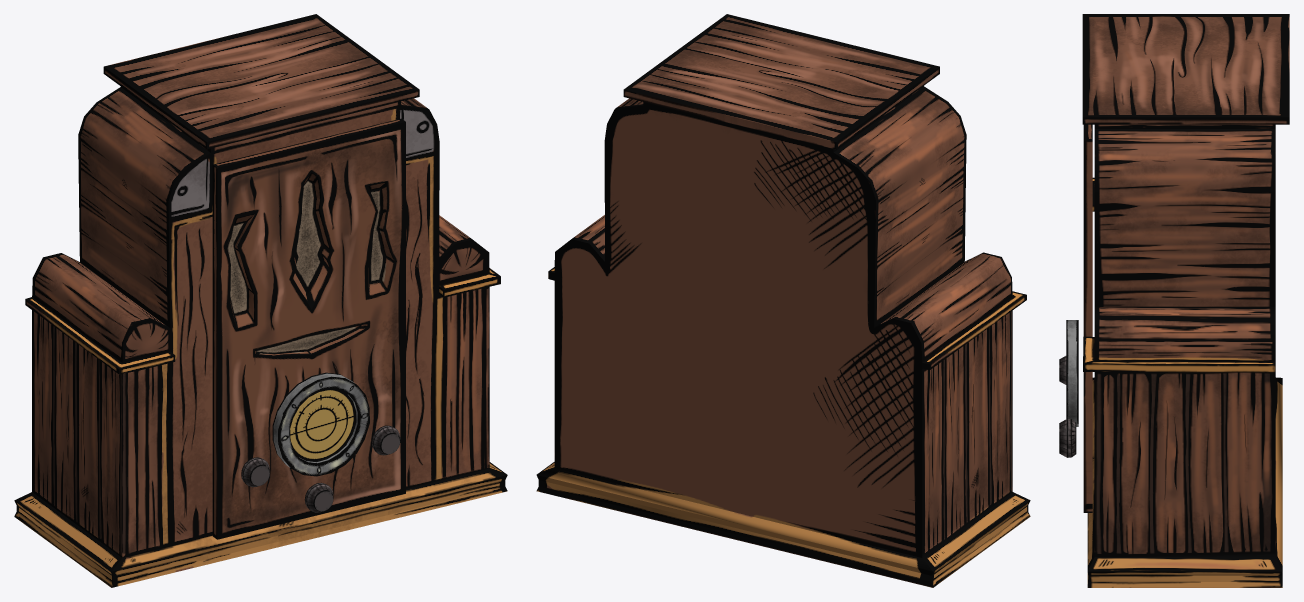
Rendered from Radio.fbx.
3 renders of one model, left to right at view 1: azimuth 30°, elevation 25°; view 2: azimuth 150°, elevation 25°; view 3: azimuth 270°, elevation 25°, orthographic.
Parts seen in each view (by area): view 1: Radio, Dibujo, Indicador, Boton_005, Boton_004, Boton_003; view 2: Radio; view 3: Radio, Dibujo, Indicador, Boton_005.
Boxes of the visible parts, x1,y1,x2,y2 form: Radio: (14, 14, 507, 587); Dibujo: (212, 118, 405, 539); Indicador: (272, 372, 369, 476); Boton_005: (371, 425, 400, 455); Boton_004: (241, 457, 269, 487); Boton_003: (304, 482, 333, 512); Radio: (536, 14, 1030, 587); Radio: (1082, 14, 1289, 587); Dibujo: (1083, 124, 1092, 512); Indicador: (1066, 320, 1078, 426); Boton_005: (1059, 418, 1076, 449).
Bounding box in the file's own units: 46.05 × 23.14 × 47.27.
